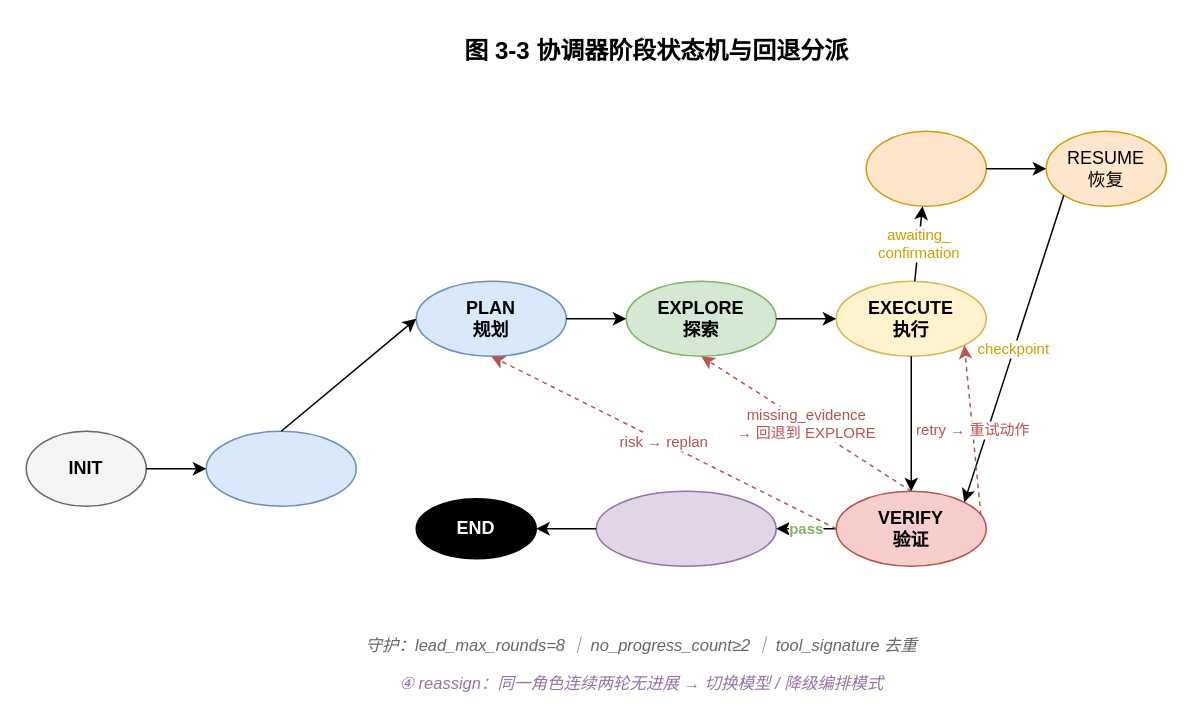
This 1193x719 diagram has some shape labels left out. Here are the shapes that lost their labels. From the top down, the centre of each, then its label:
At [925,168]: "PAUSE 挂起".
At [280,468]: "ROUTE 意图路由".
At [685,528]: "SUMMARIZE 汇总".
